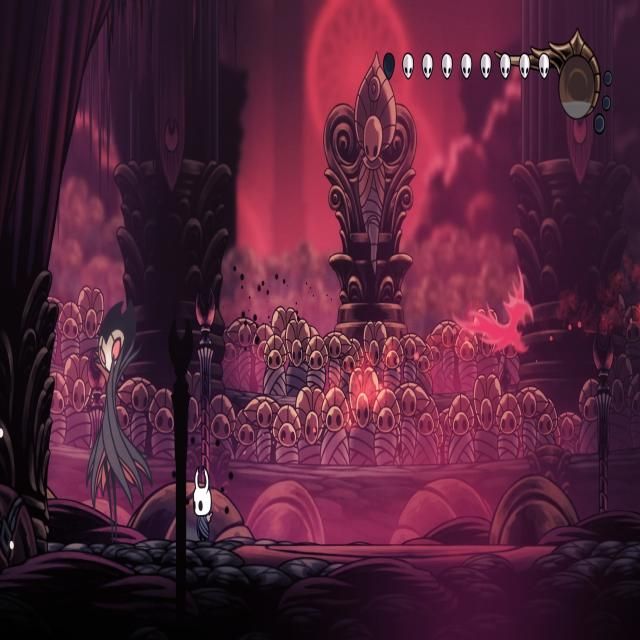Fire Bat: (451, 263, 534, 355)
Grimm: (79, 309, 154, 543)
Player: (190, 460, 214, 544)
